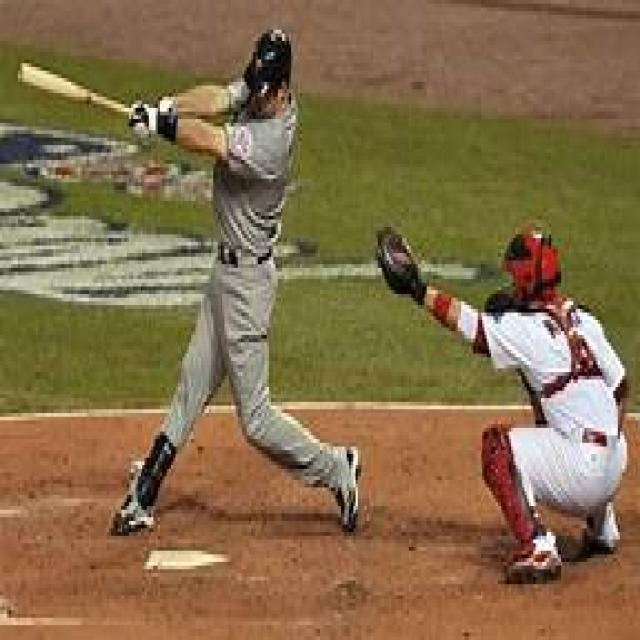bat: (15, 57, 135, 119)
